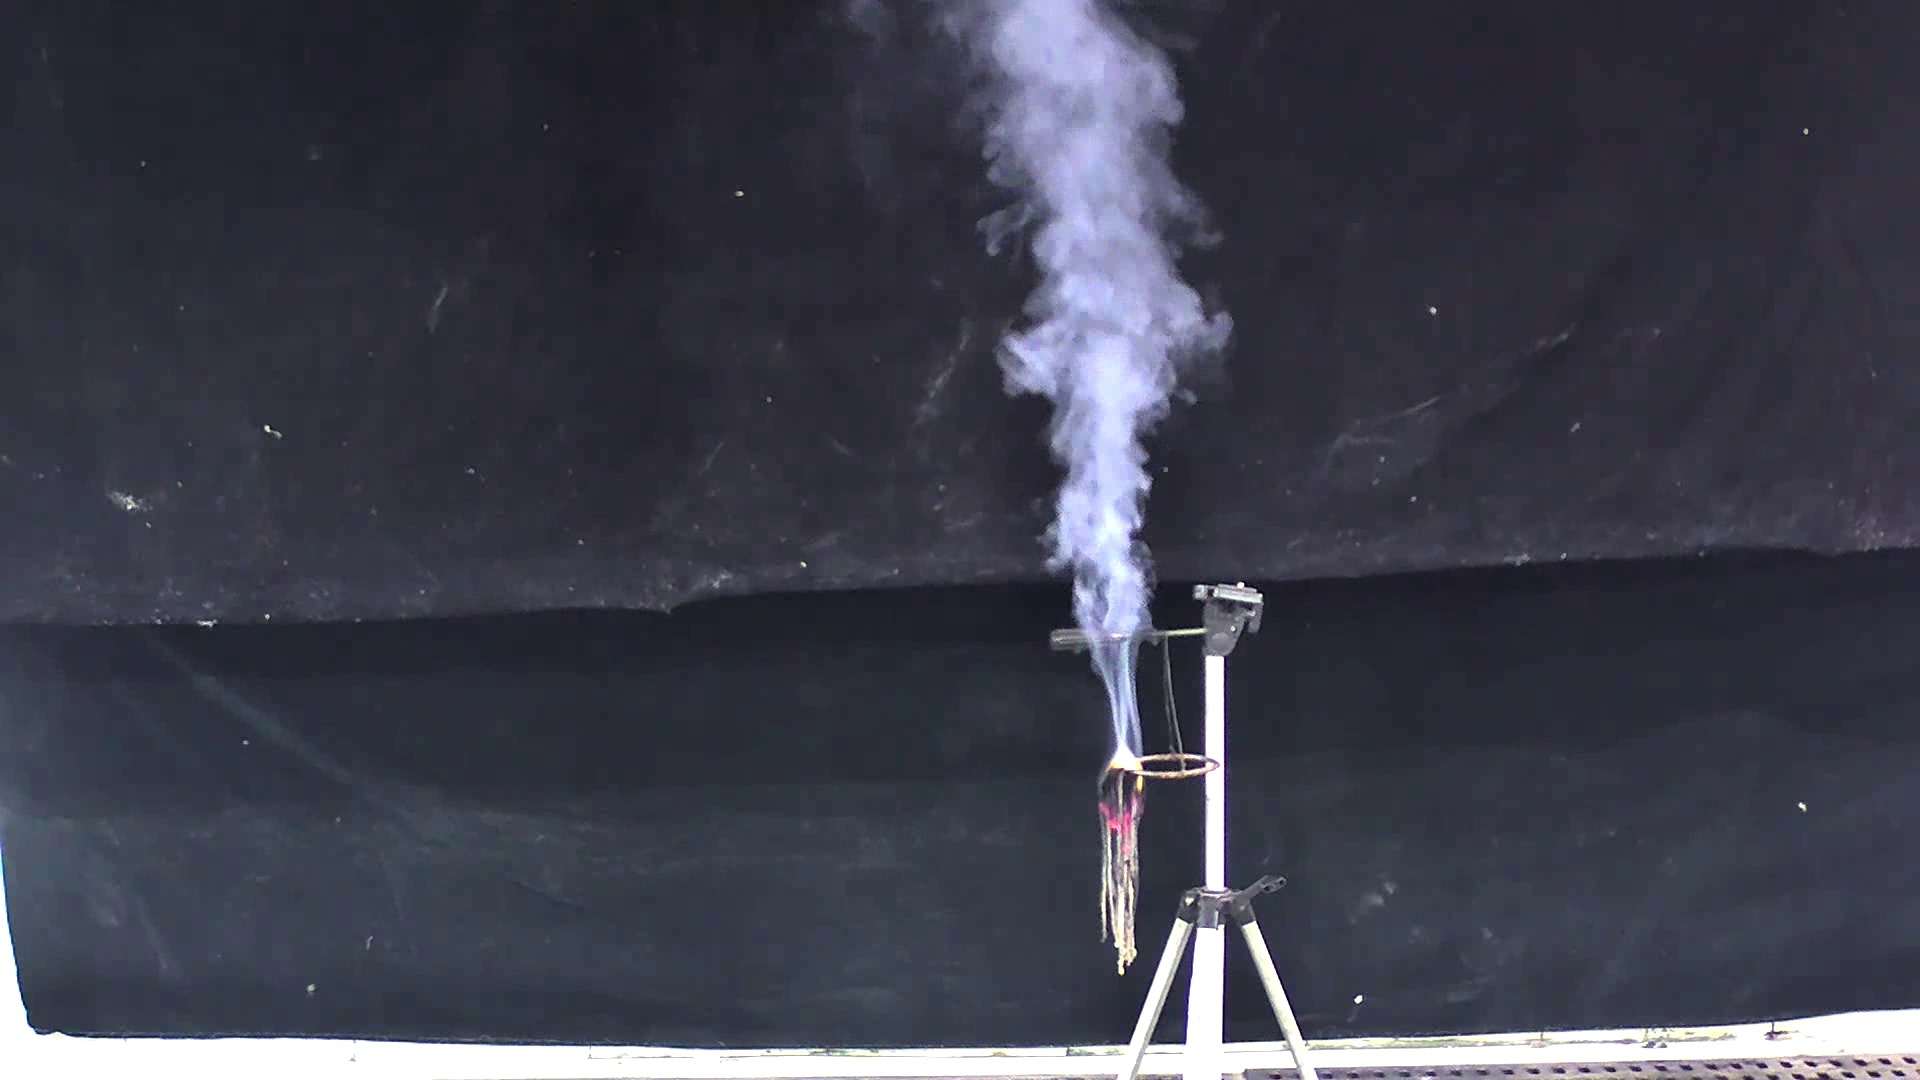smoke: (942, 11, 1232, 766)
